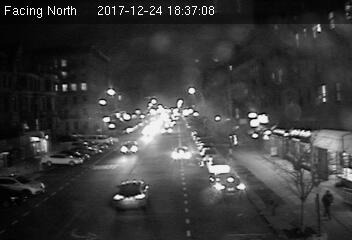car: (111, 176, 151, 208), (207, 173, 246, 197), (170, 145, 190, 160), (120, 140, 139, 153), (159, 126, 173, 135)
